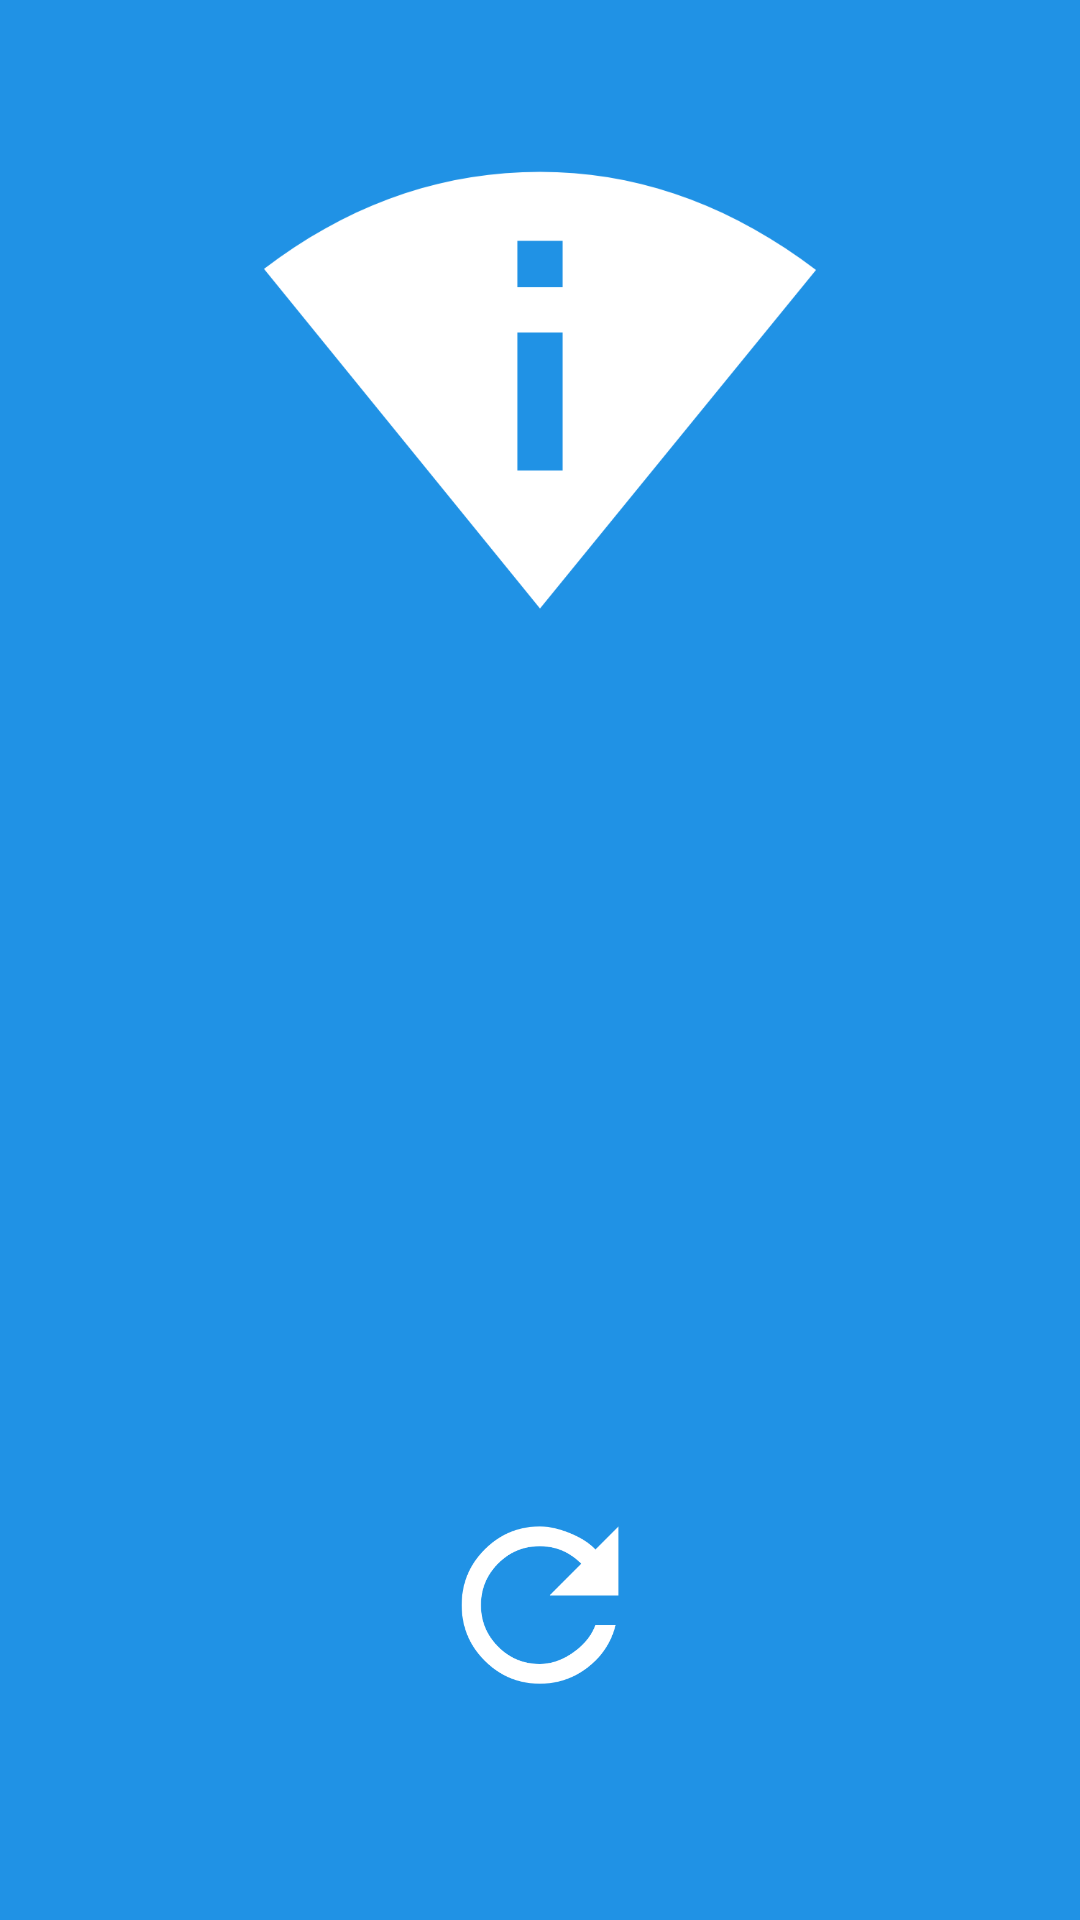

Screen size 1080w x 1920h. Icon name, then its center in pixels as point (x, y):
refresh: point (540, 1605)
